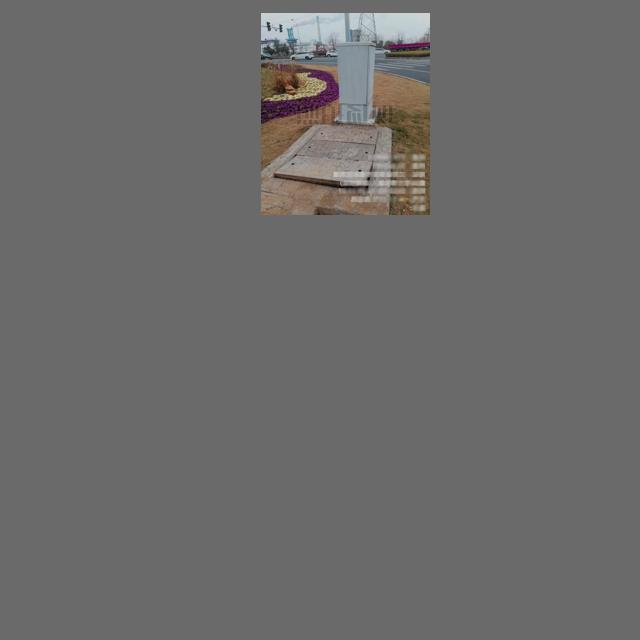uncovered: (269, 125, 382, 194)
